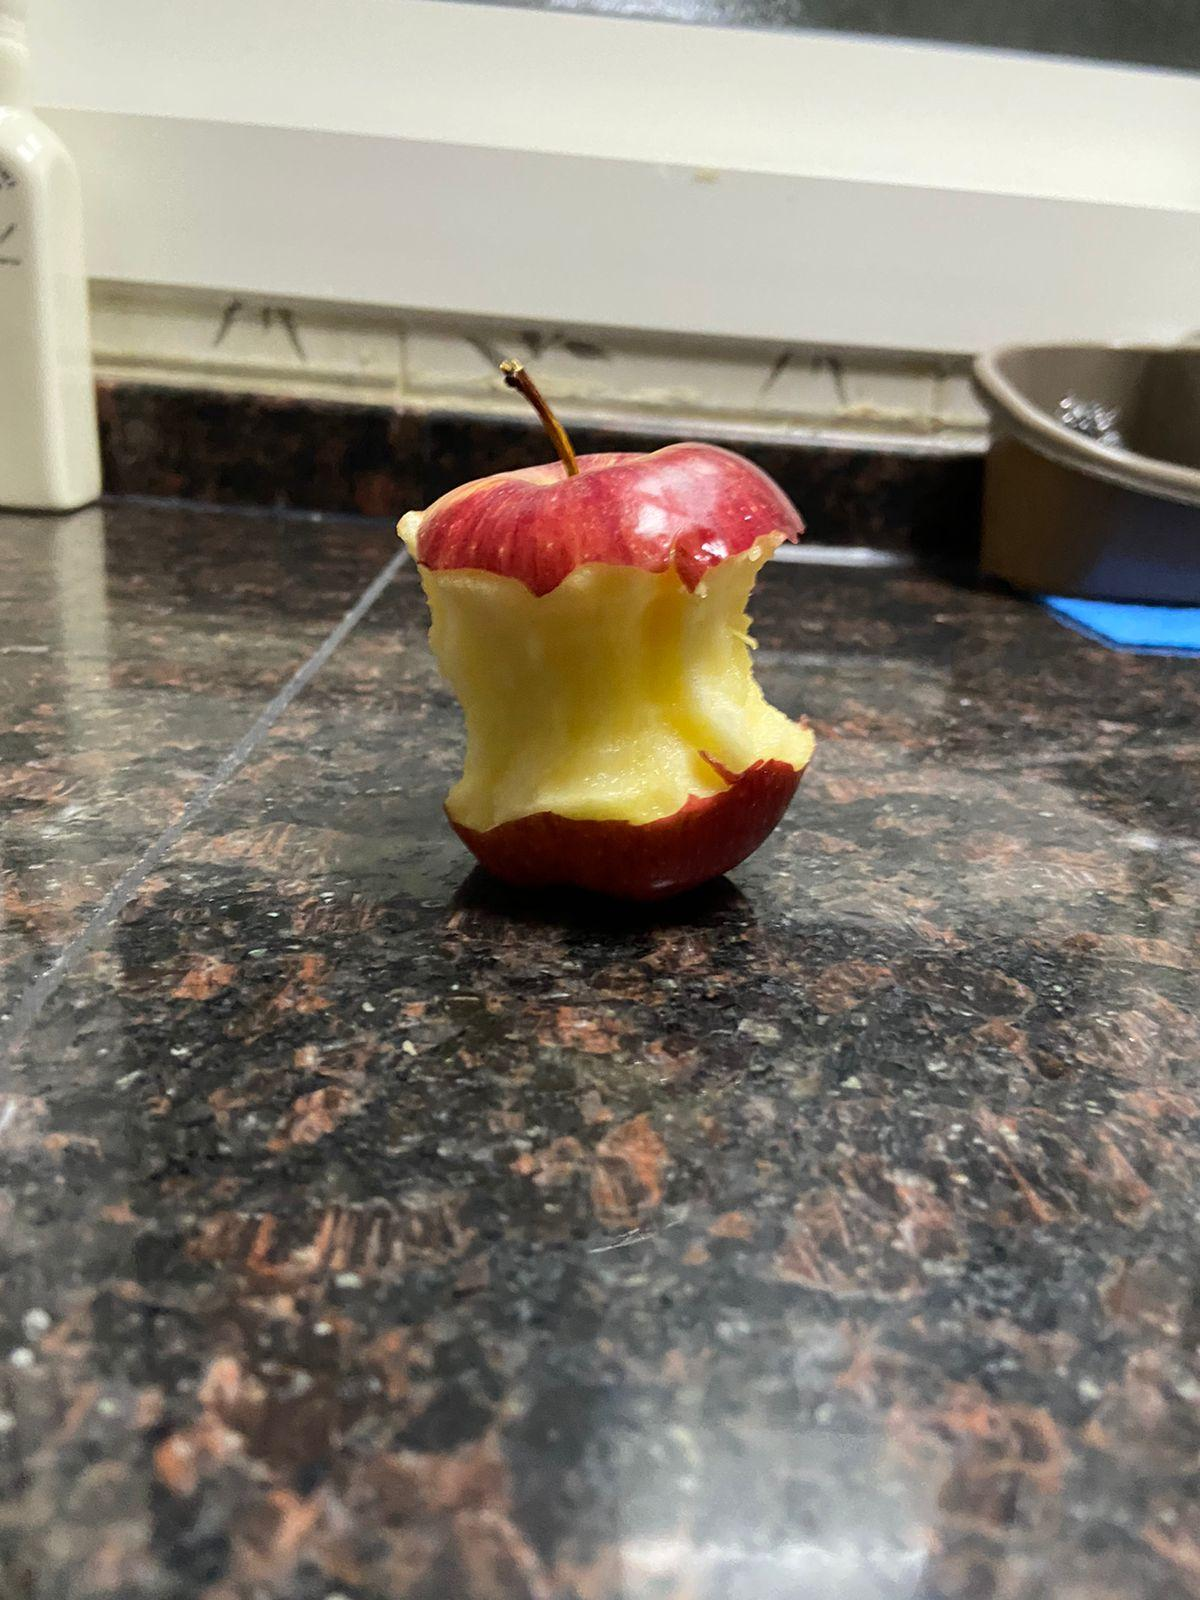Apple: (366, 360, 824, 916)
